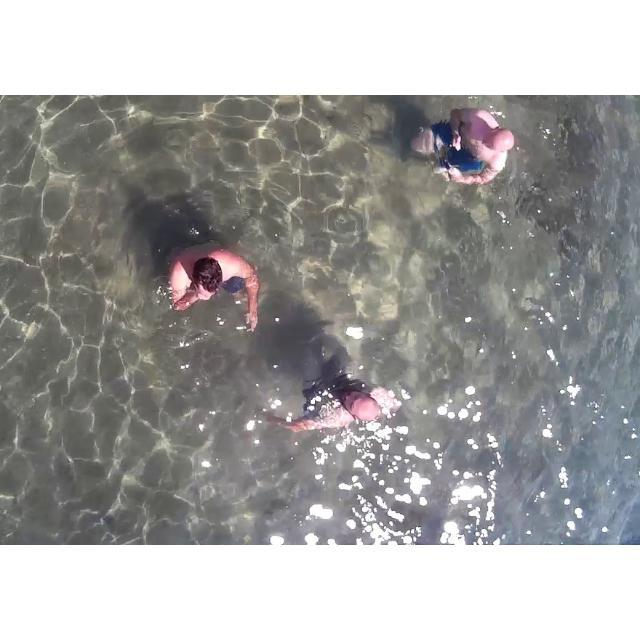human: (156, 222, 265, 342), (268, 350, 405, 440), (409, 95, 513, 199)
